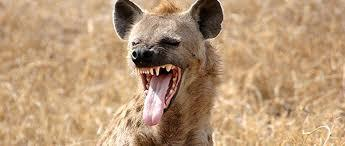hyenas: (84, 0, 230, 146)
